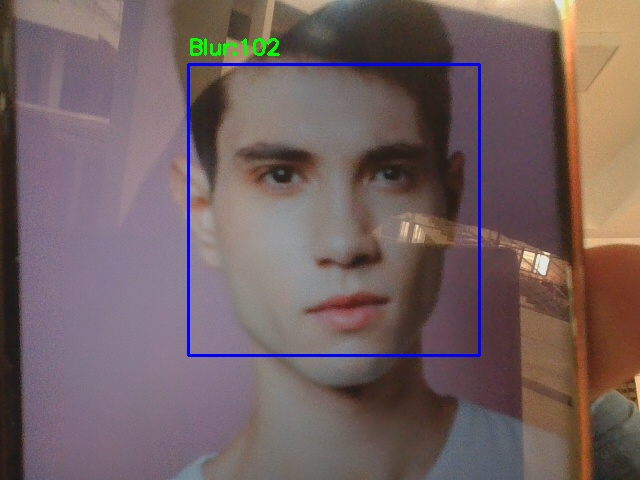fake: (188, 64, 479, 355)
